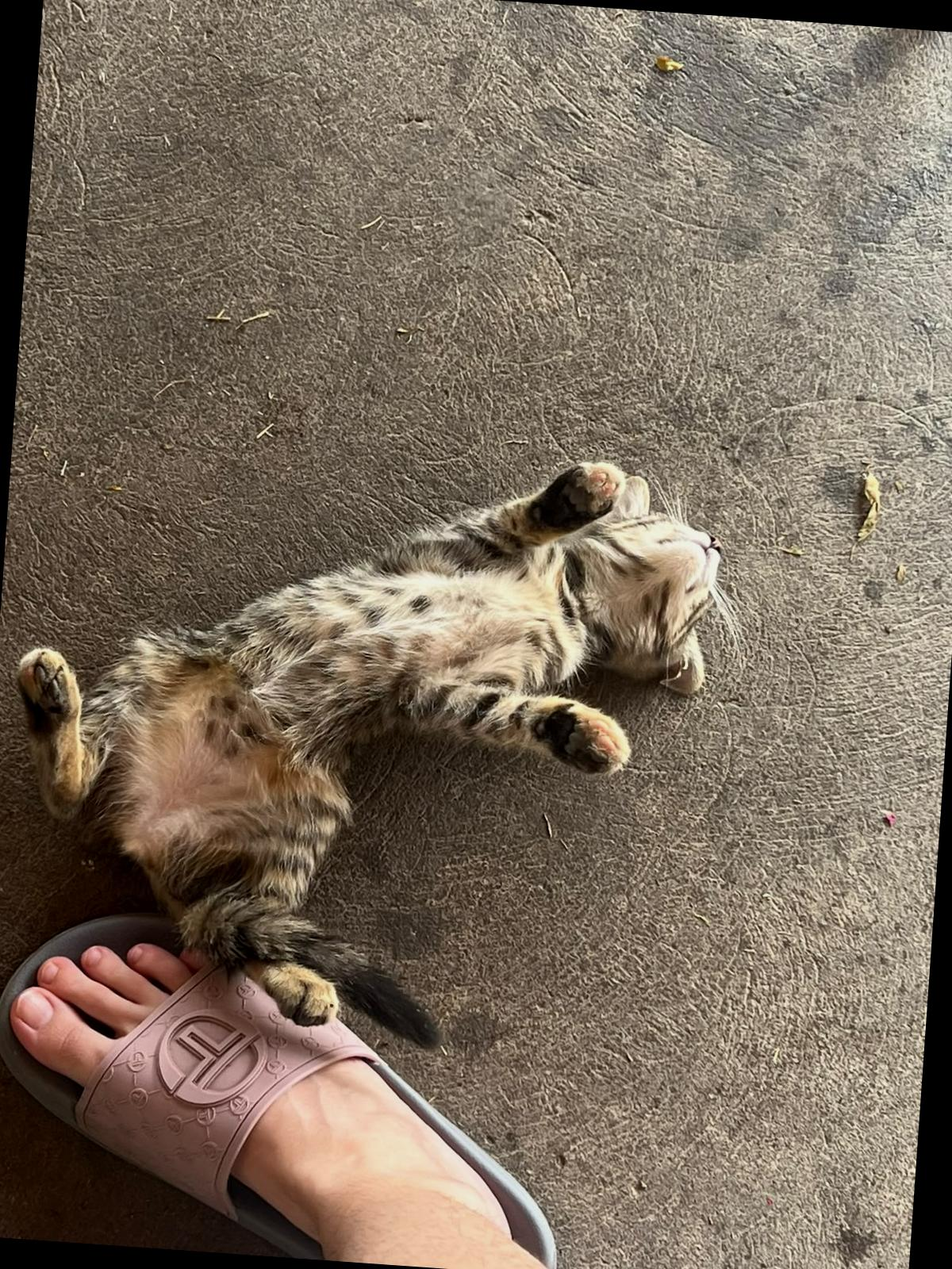macka: (0, 424, 735, 1056)
